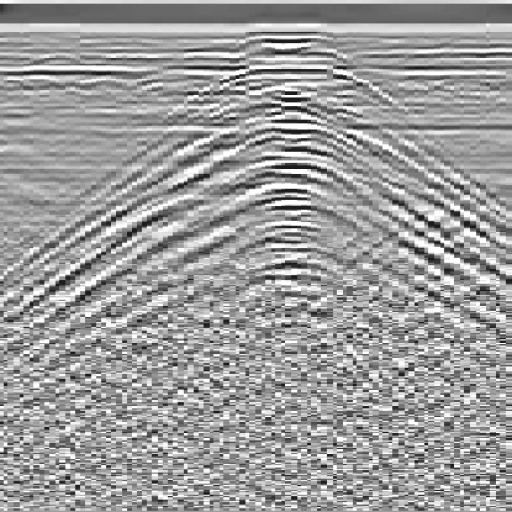metalic: (79, 40, 504, 387)
